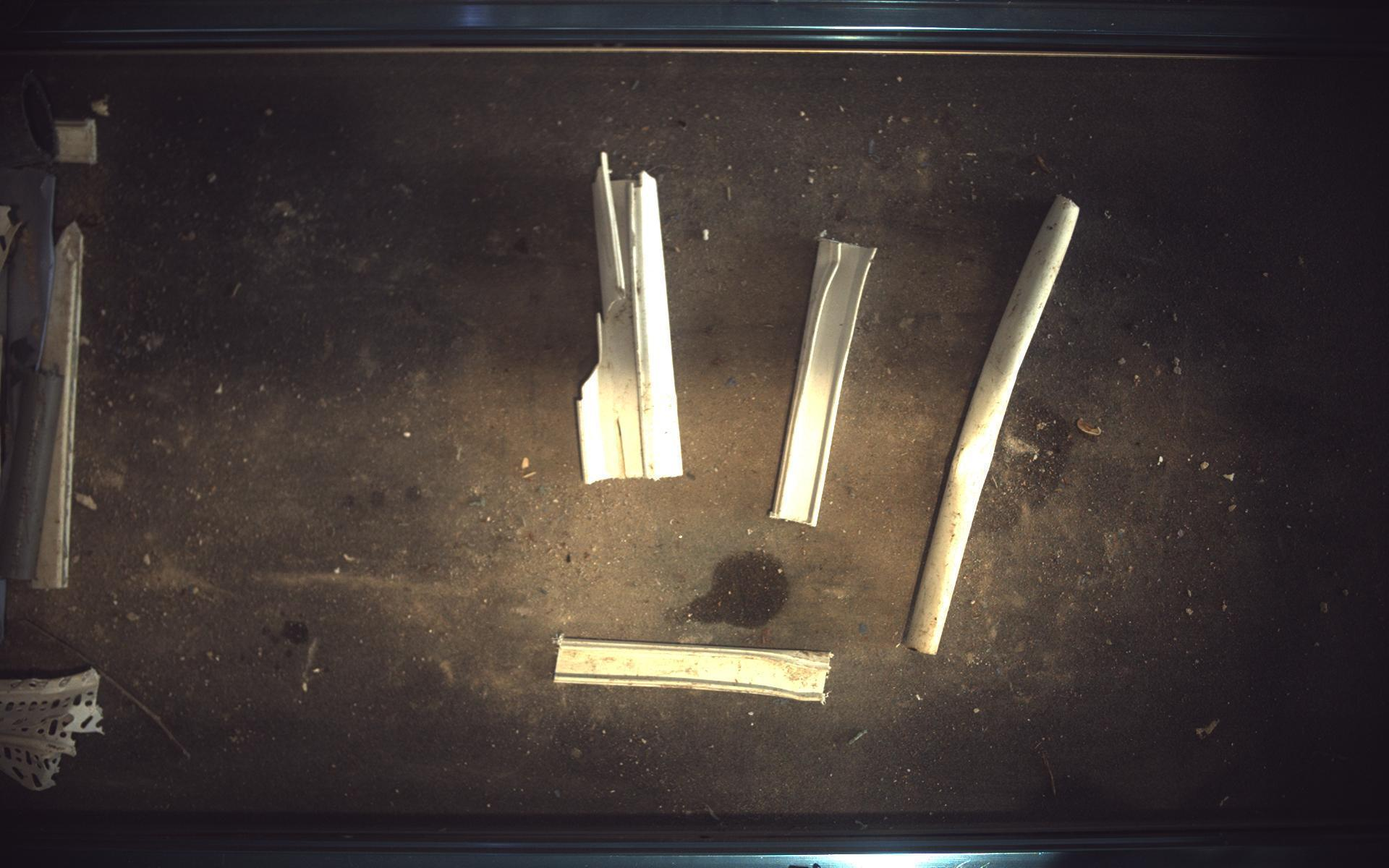pipes: (906, 194, 1082, 655)
plastic: (577, 151, 684, 484), (771, 237, 878, 527), (555, 637, 832, 704)
